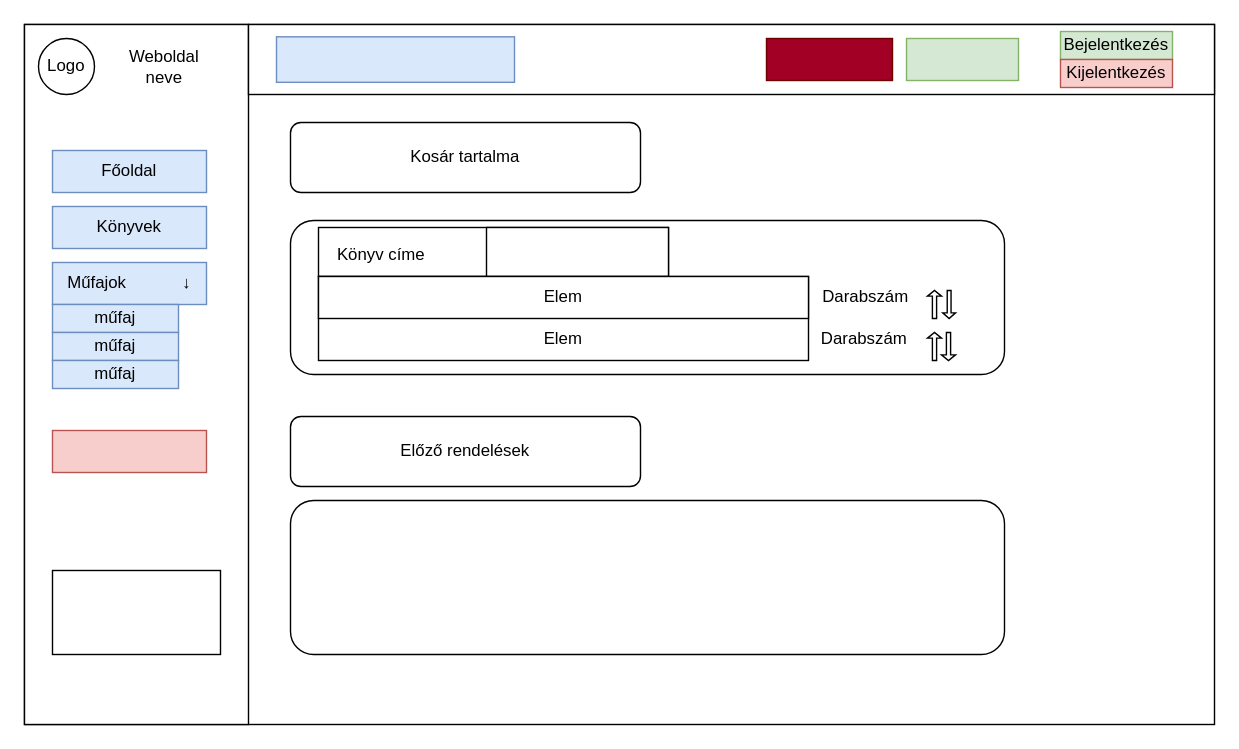
Some shapes in this 1239 by 749 pixel diagram are drawn without their labels. The centre of each missing label's shape, as x and y in pixels:
Kedvenc könyvek: (128,450)
Keresés: (394,58)
Kosaram: (828,58)
Kosár tartalmával hasonlóan: (646,576)
Könyv szerzője: (576,251)
Regisztráció: (961,58)
ÁSZF Kapcsolat: (135,611)
